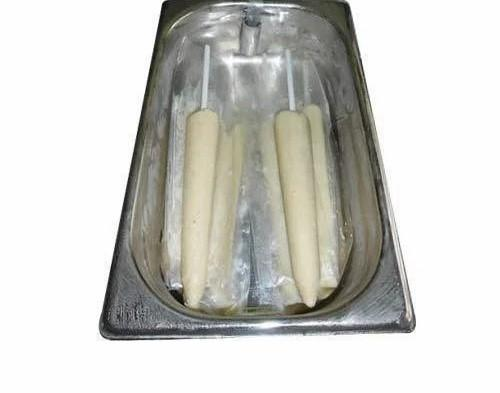Kulfi: (273, 110, 322, 308), (181, 108, 219, 309), (301, 103, 339, 287)
